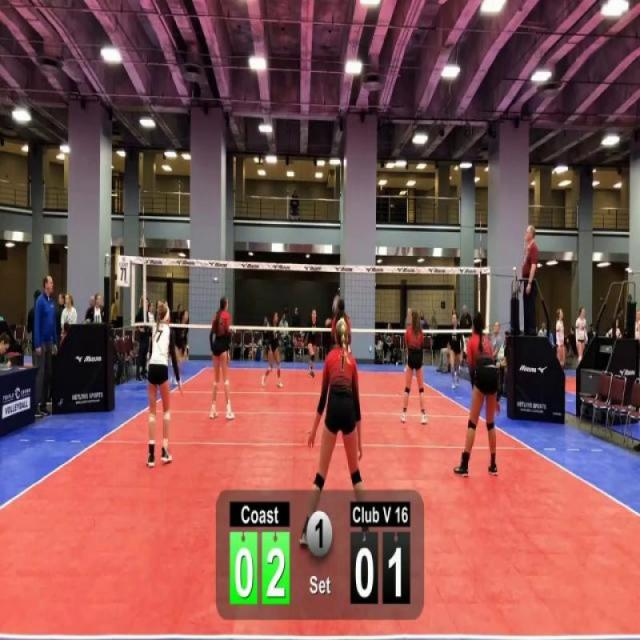volleyball: (330, 292, 341, 315)
